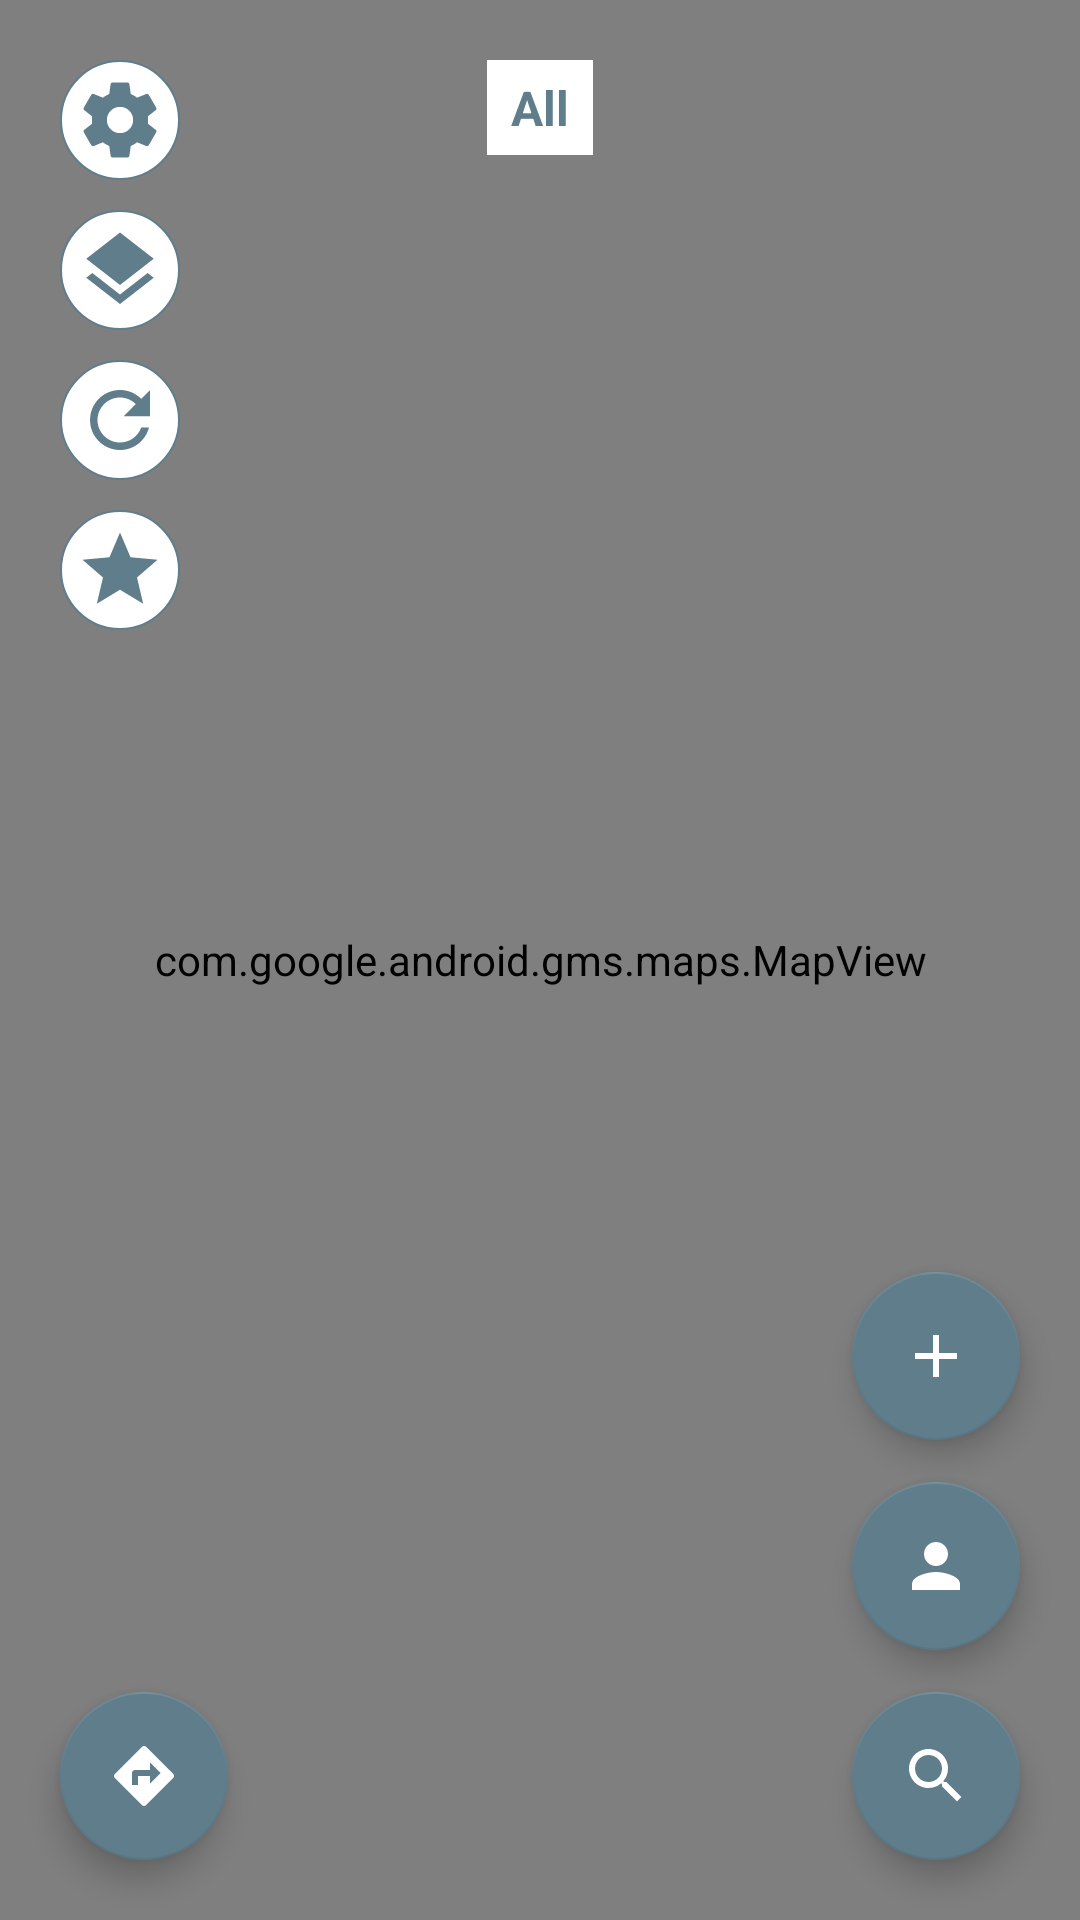

Where to tap for icons on this 1080px x 1920px app screen, as [x,y]:
add: [936,1356]
directions: [144,1776]
layers: [120,270]
person: [936,1566]
refresh: [120,420]
search: [936,1776]
settings: [120,120]
star: [120,570]
